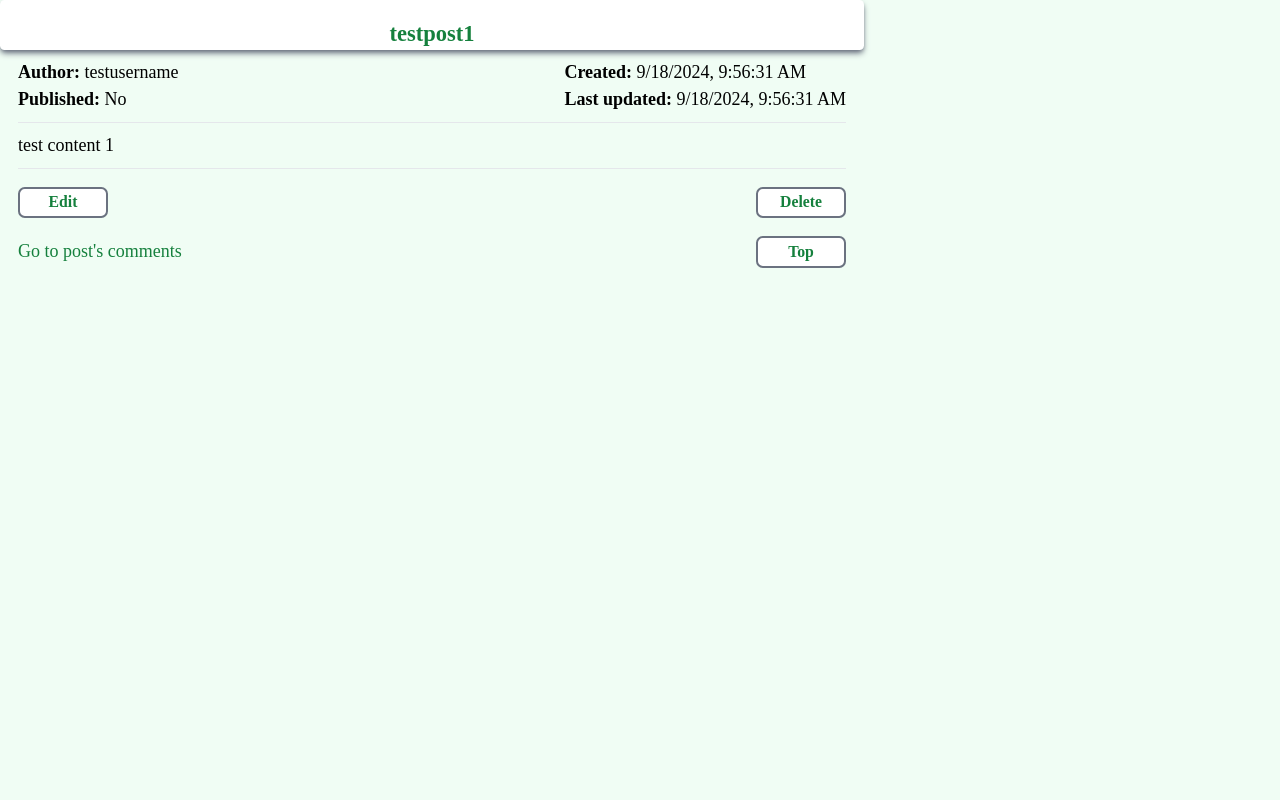
Test case: postDeleteModal tests › modalPrompt rendering
Click the button "Delete".
click(801, 202)  # box x1=756 y1=186 x2=846 y2=218
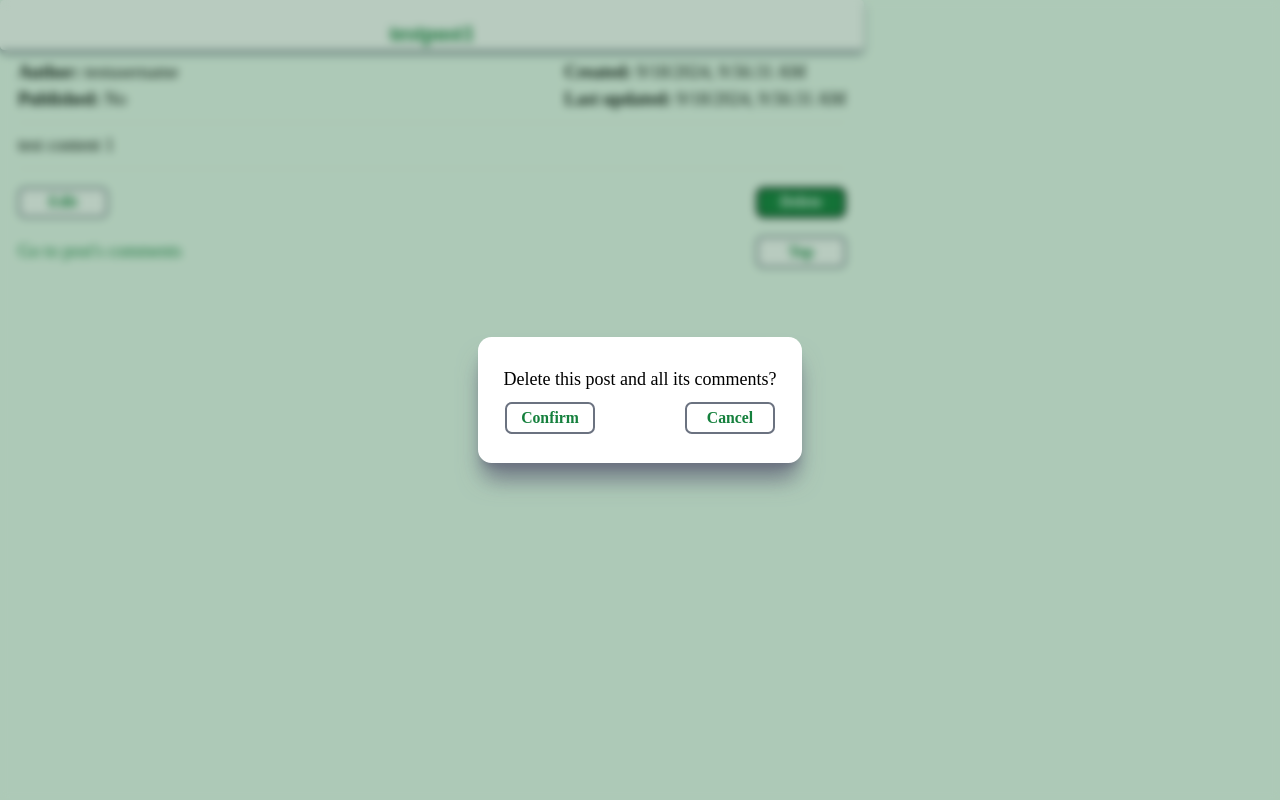
expect the button "Confirm" is shown: met, box x1=505 y1=402 x2=595 y2=434
expect the button "Cancel" is shown: met, box x1=685 y1=402 x2=775 y2=434
